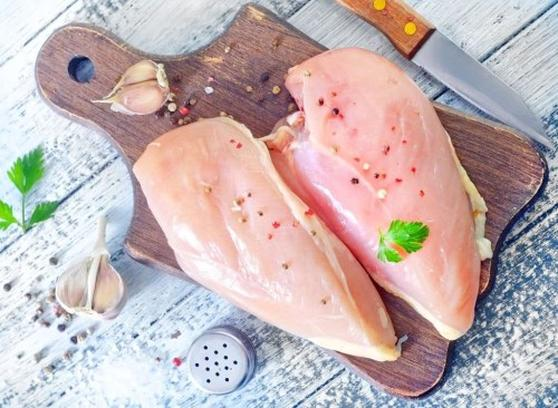chicken_fillet: (283, 42, 511, 346), (133, 114, 406, 366)
